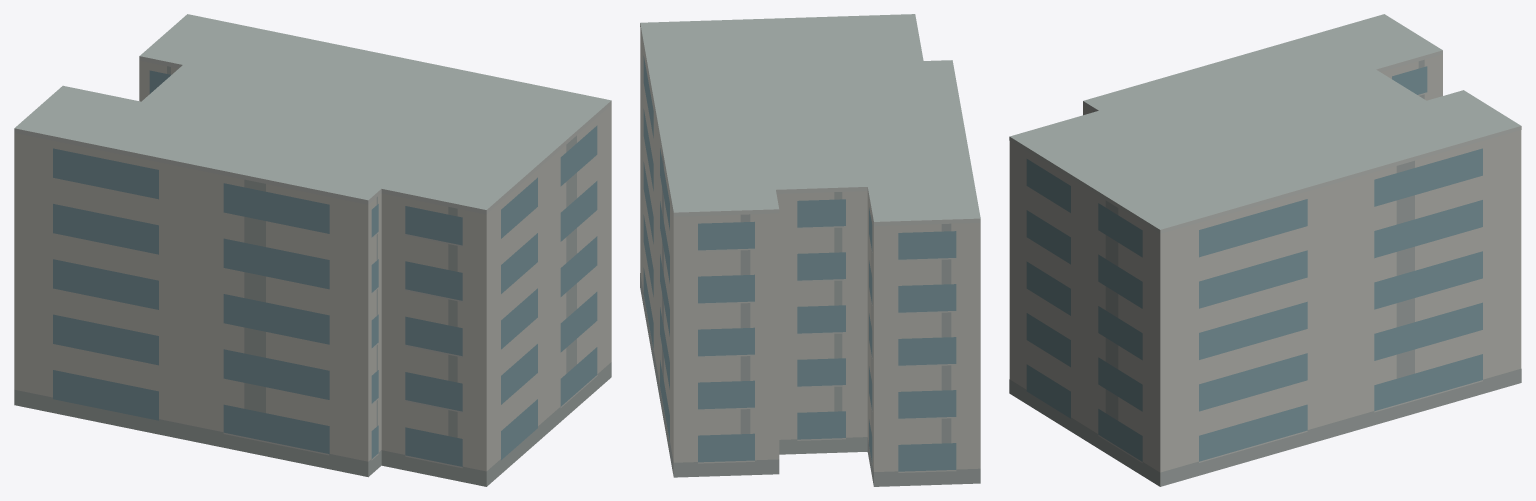
Rendered from residential-f3911bf3-17f6-4f98-a032-d769c1dd0923.glb.
3 views of the same model, side by side, from view 1: azimuth 30°, elevation 25°; view 2: azimuth 150°, elevation 25°; view 3: azimuth 270°, elevation 25° (orthographic). The views are drawn at different scales.
Parts seen in each view (by area): view 1: residential-f3911bf3-17f6-4f98-a032-d769c1dd0923.tmp; view 2: residential-f3911bf3-17f6-4f98-a032-d769c1dd0923.tmp; view 3: residential-f3911bf3-17f6-4f98-a032-d769c1dd0923.tmp.
Boxes of the visible parts, x1,y1,x2,y2 form: residential-f3911bf3-17f6-4f98-a032-d769c1dd0923.tmp: [14, 14, 611, 486]; residential-f3911bf3-17f6-4f98-a032-d769c1dd0923.tmp: [640, 14, 980, 486]; residential-f3911bf3-17f6-4f98-a032-d769c1dd0923.tmp: [1009, 14, 1521, 486].
Bounding box in the file's own units: 27.48 × 15.25 × 27.54.
